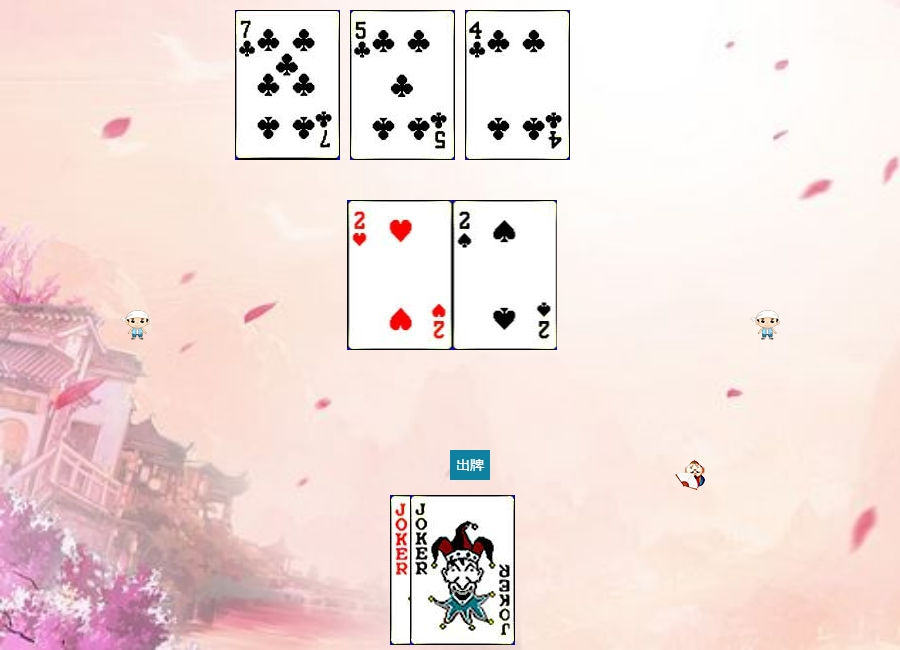15~3: (348, 200, 453, 350)
15~4: (453, 200, 558, 350)
17~3: (410, 495, 515, 645)
18~4: (390, 495, 495, 645)
4~2: (465, 10, 570, 160)
5~2: (350, 10, 455, 160)
7~2: (235, 10, 340, 160)
